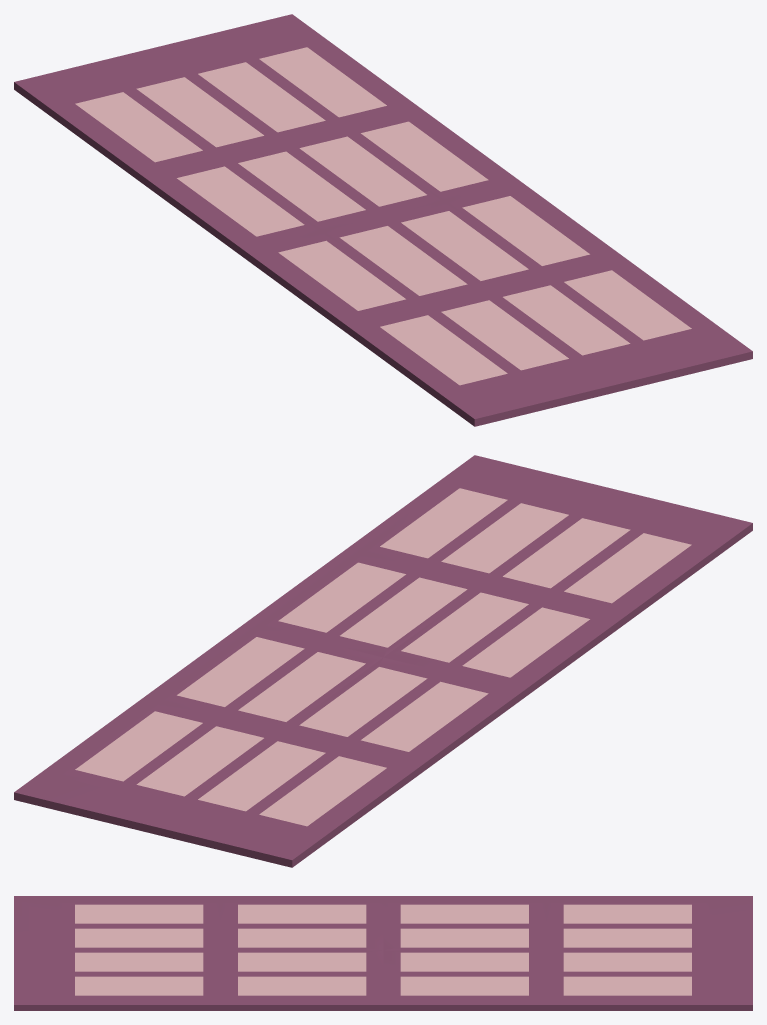
Rendered from Rug02.fbx.
3 renders of one model, top to bottom at view 1: azimuth 30°, elevation 25°; view 2: azimuth 150°, elevation 25°; view 3: azimuth 270°, elevation 25°, orthographic. The views are drawn at different scales.
Visible parts, largest first — view 1: Rug02; view 2: Rug02; view 3: Rug02.
Boxes of the visible parts, x1,y1,x2,y2 form: Rug02: (14,14,752,426); Rug02: (14,455,752,867); Rug02: (14,896,752,1010).
Bounding box in the file's own units: 1.04 × 3 × 0.0287.
